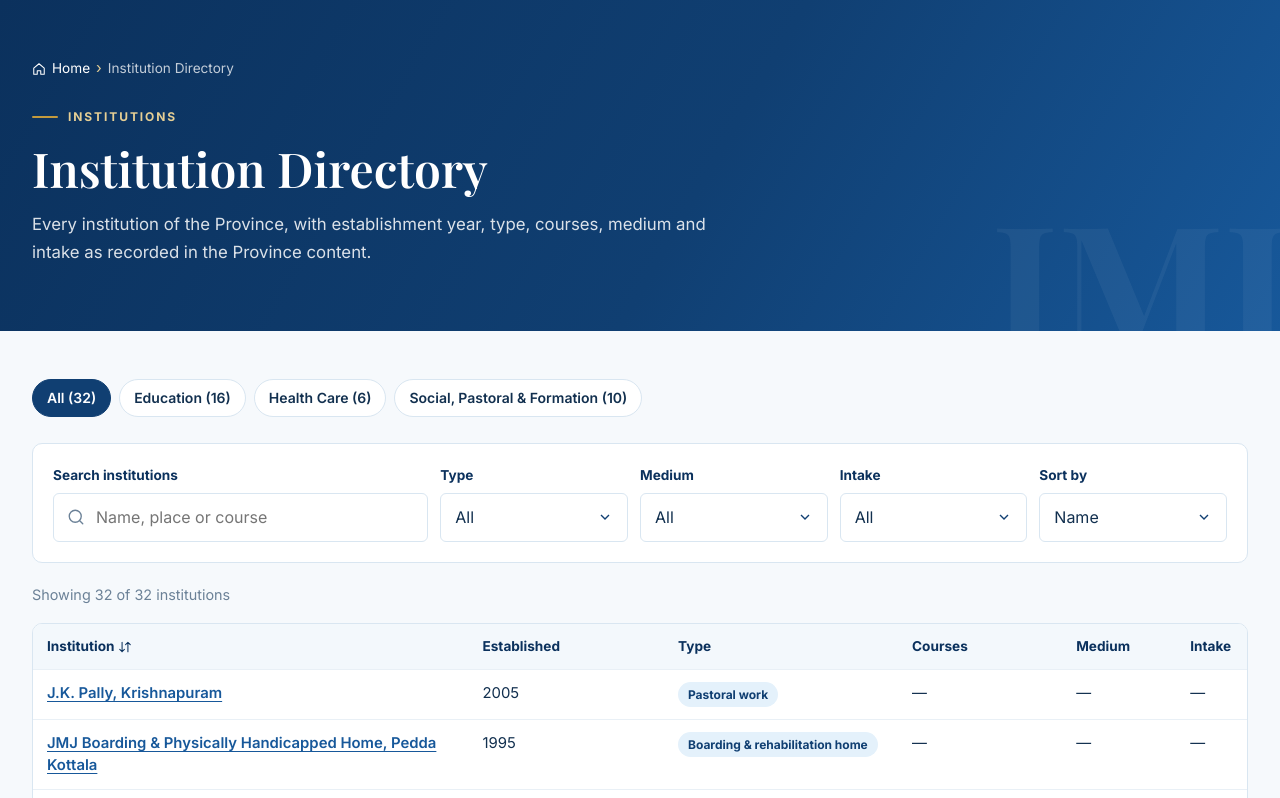
Test case: InstitutionsPage › narrows the list as the visitor searches
The width and height of the screenshot is (1280, 798).
Type "Kurnool" into the search field labelled "Search institutions". click: [241, 517]
box: [53,493,428,542]
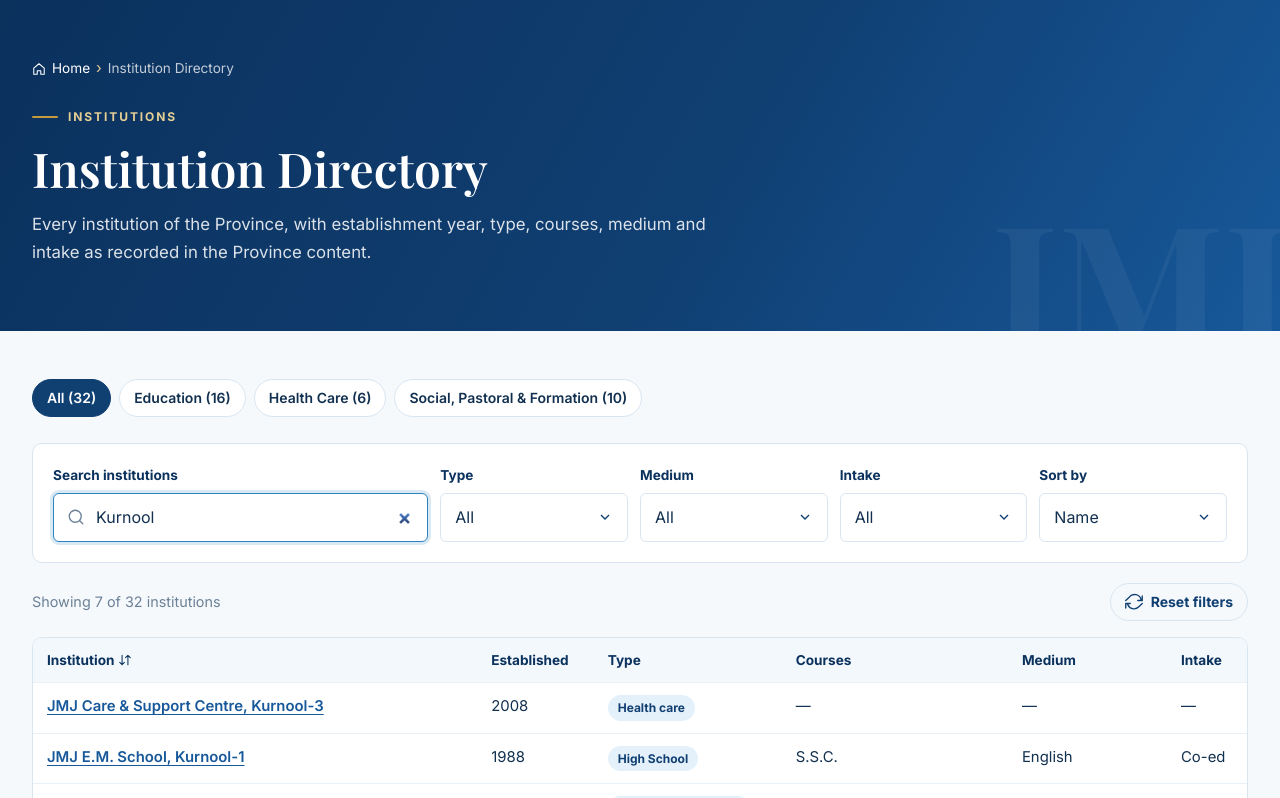
Result: the message no longer shows "Showing 32 of 32" at [32,590,221,614]
